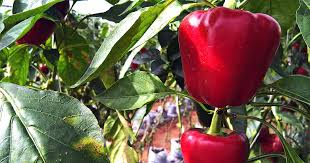bell pepper: (173, 8, 280, 115), (172, 121, 252, 163)
